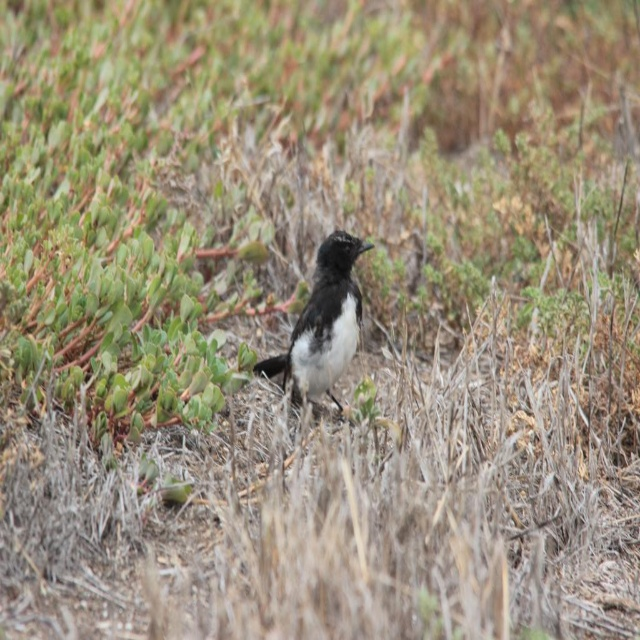Magpie: (233, 229, 382, 434)
